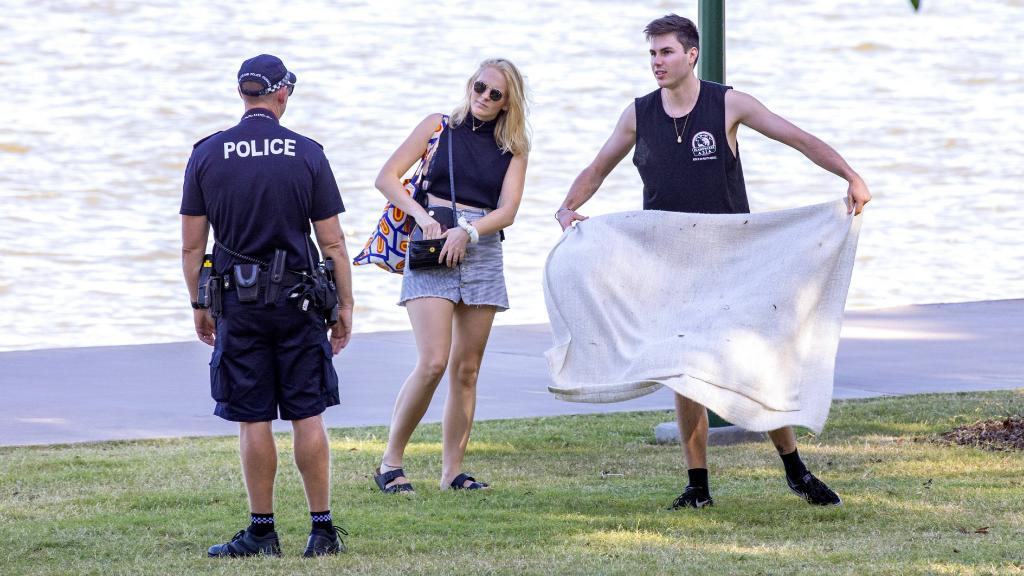Person: (555, 15, 872, 506), (180, 54, 354, 555), (374, 56, 532, 496)
